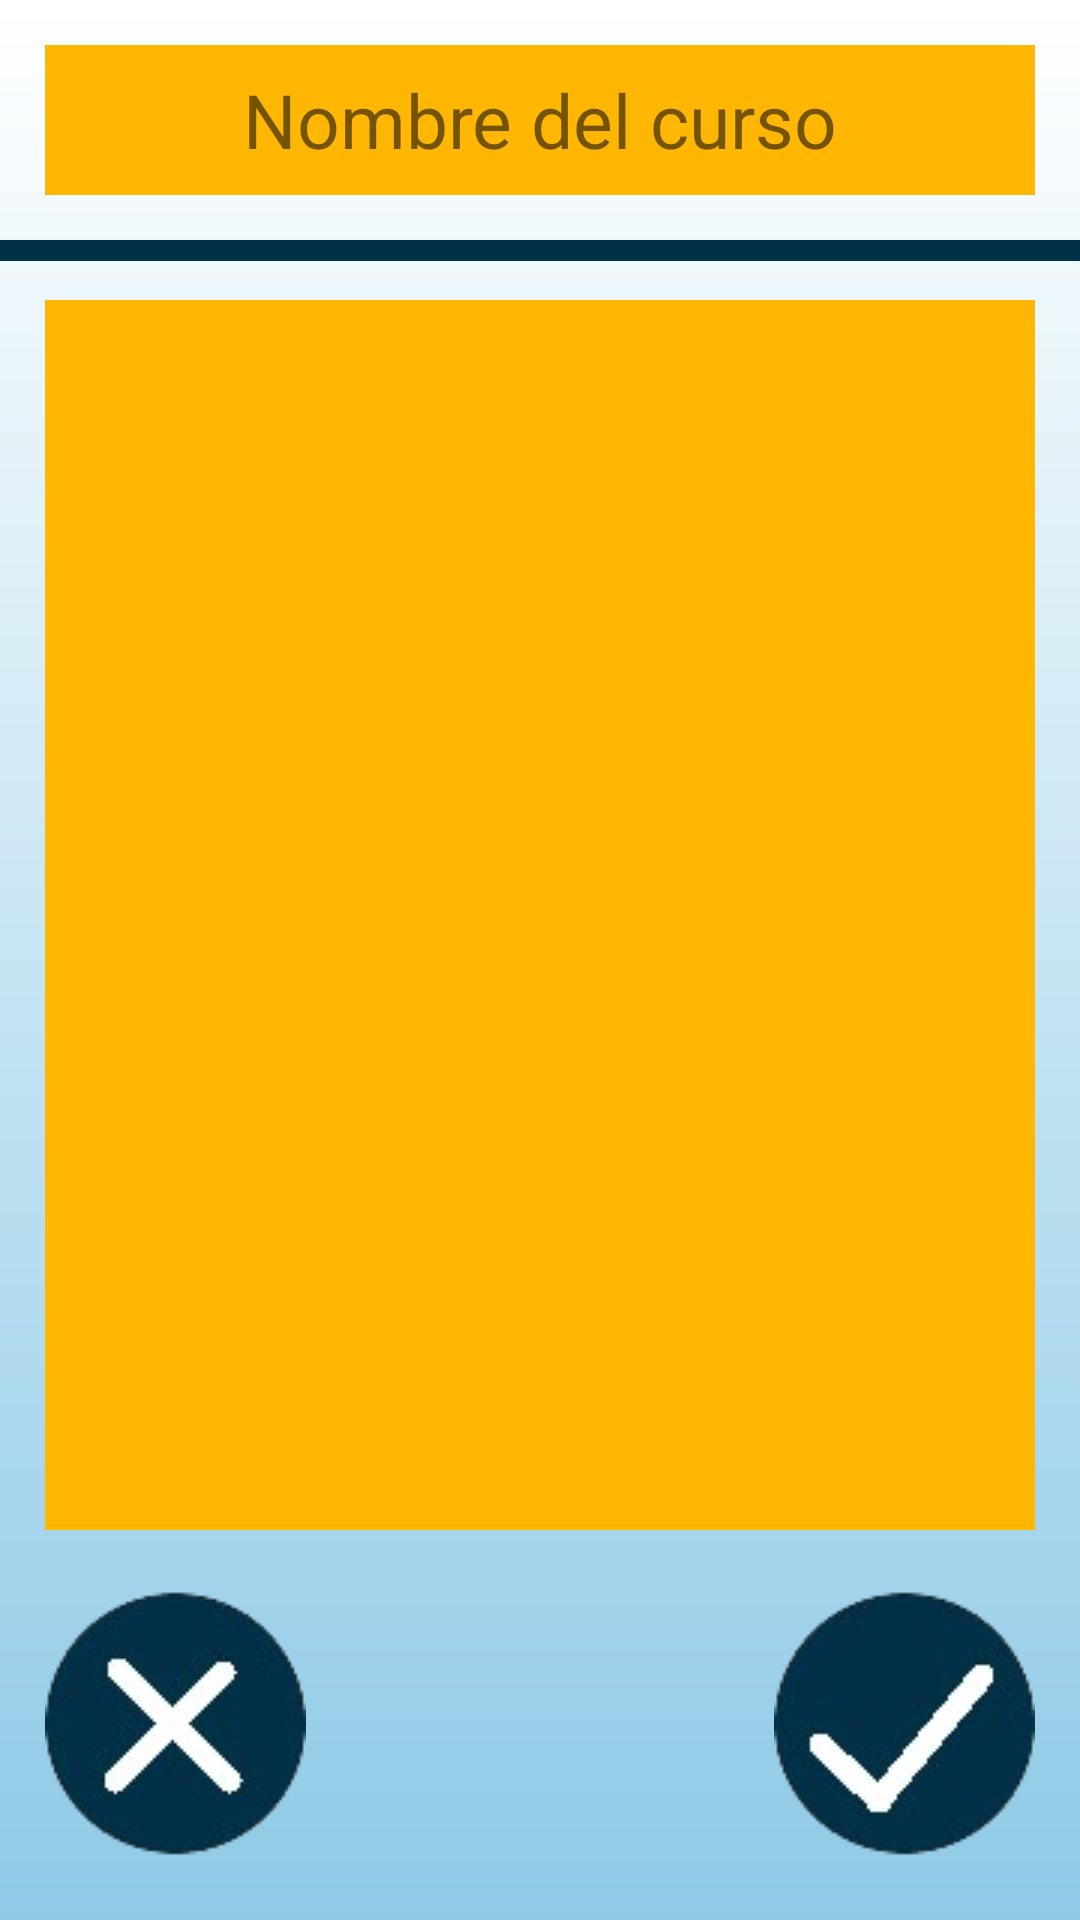

Named icons in this screenshot (1080x1920) and their centers, (x=x, y=y):
cancel: (x=175, y=1723)
check: (x=904, y=1723)
